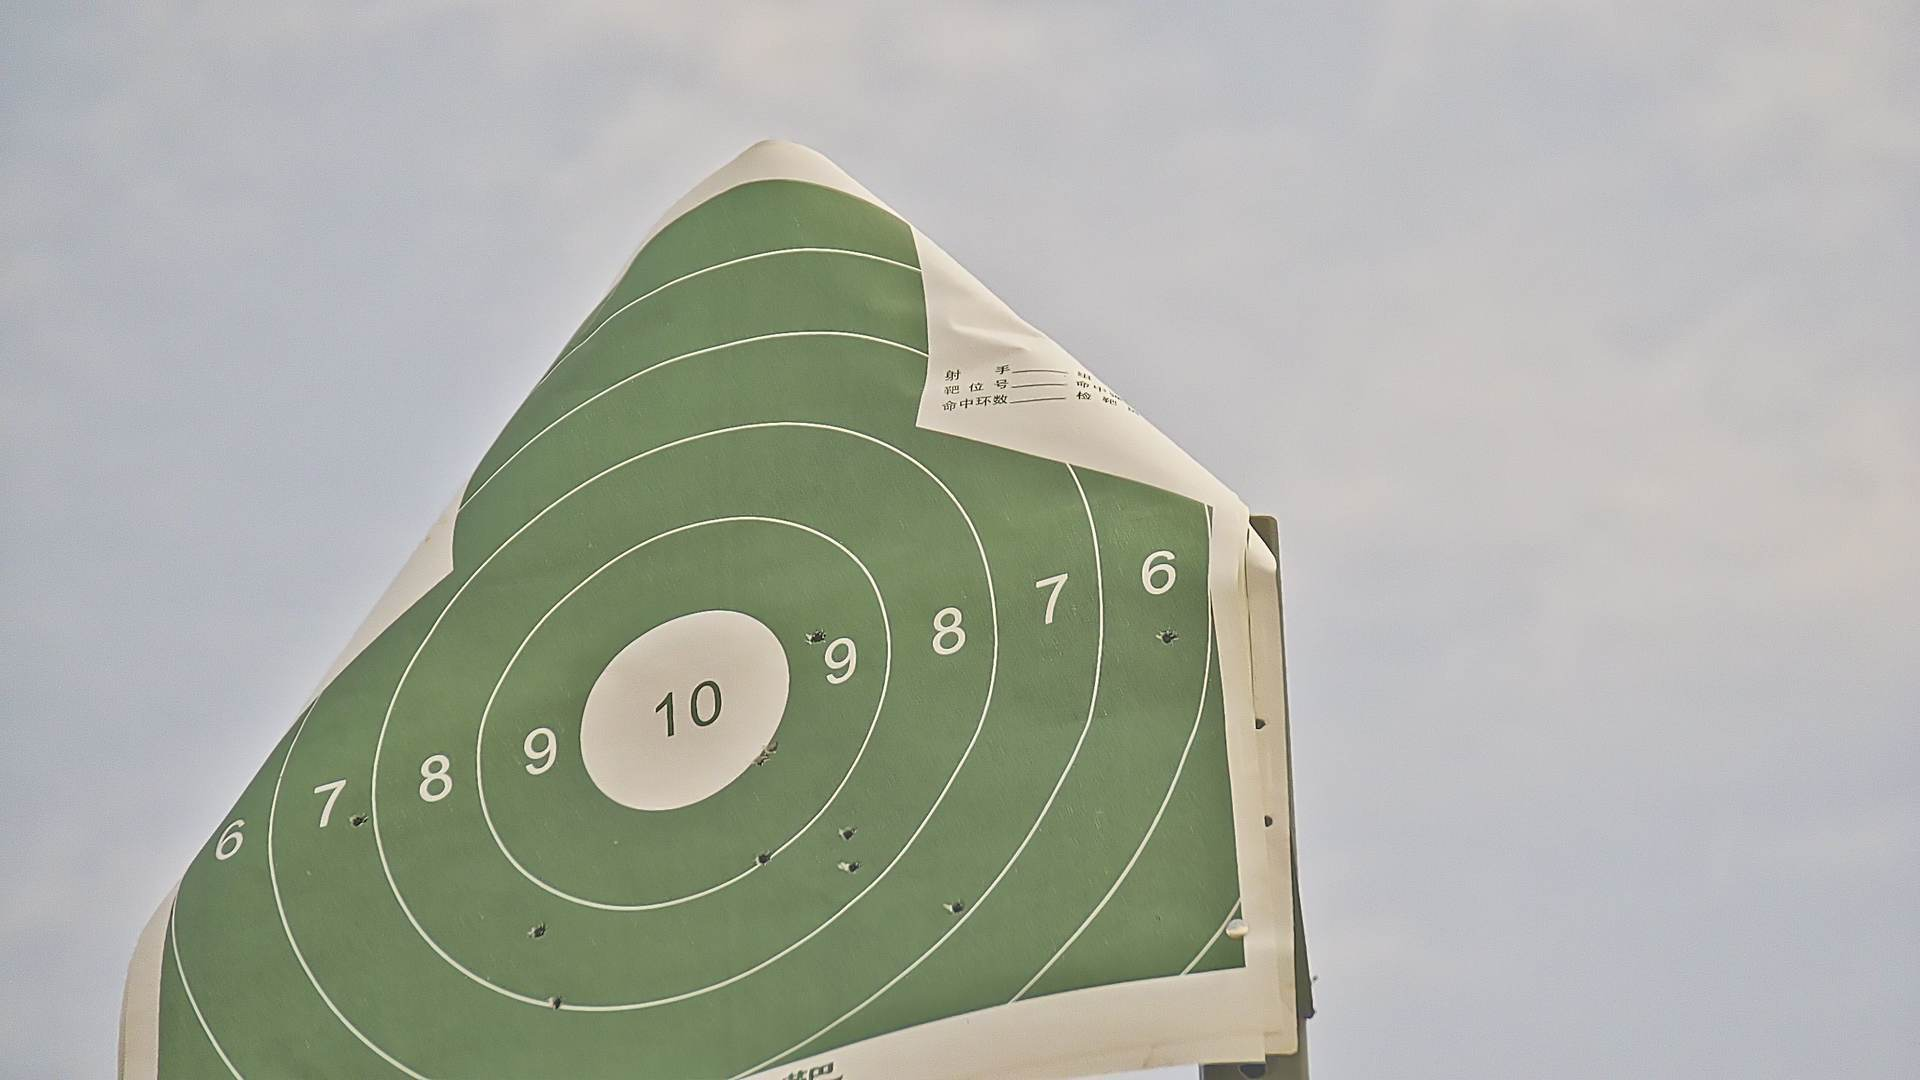hole: (1159, 626, 1178, 647), (837, 825, 857, 840), (352, 811, 369, 825), (754, 851, 771, 865), (811, 630, 827, 645), (531, 922, 547, 936), (550, 994, 564, 1010), (847, 860, 861, 874), (949, 898, 964, 913), (754, 749, 766, 762), (767, 740, 779, 752)
kernel: (678, 709, 684, 715)
target: (150, 178, 1246, 1080)
ten: (579, 605, 793, 815)
